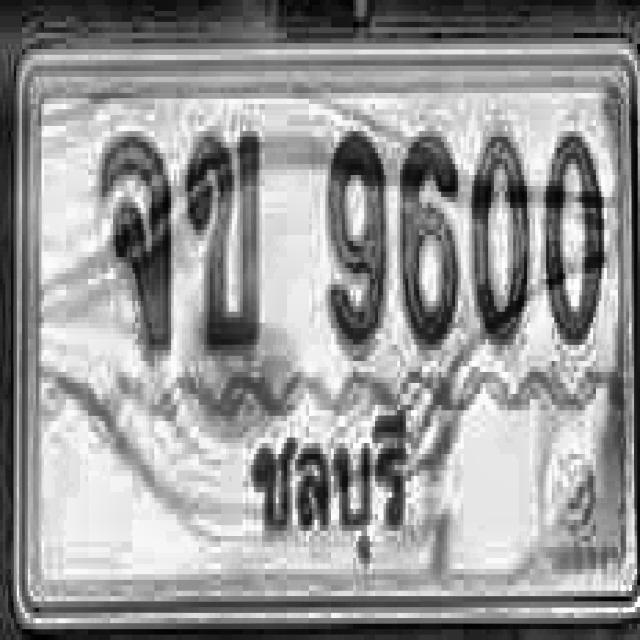license-plate: (15, 49, 640, 624)
